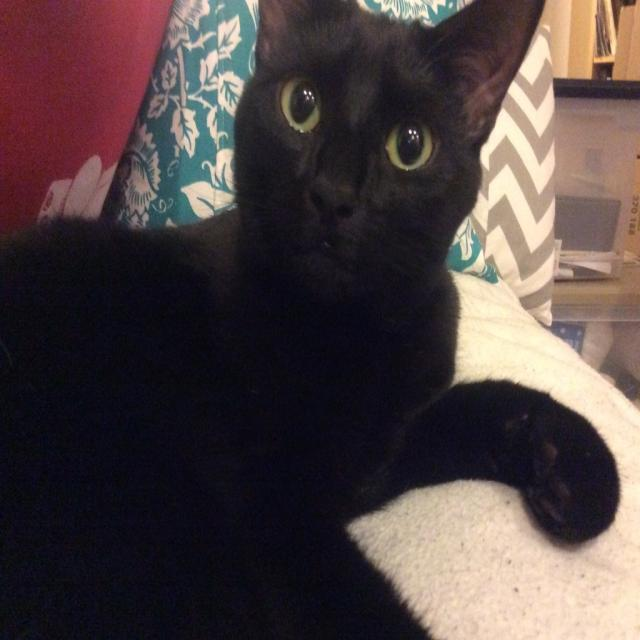Cat: (1, 0, 621, 638)
